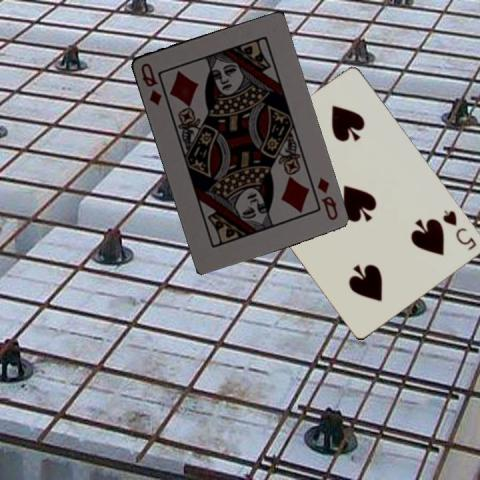5s: (440, 207, 478, 252)
Qd: (137, 59, 163, 107), (314, 174, 339, 222)
